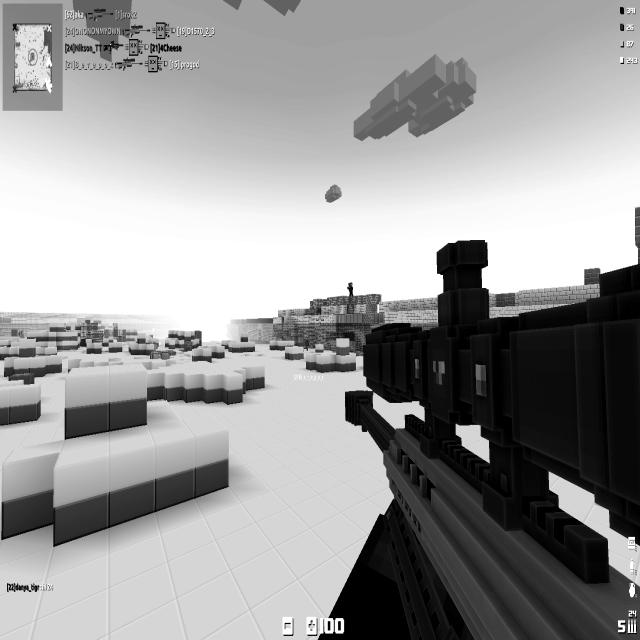Head: (19, 330, 23, 336), (348, 282, 352, 287)
Player: (347, 282, 353, 298), (18, 330, 24, 338)
